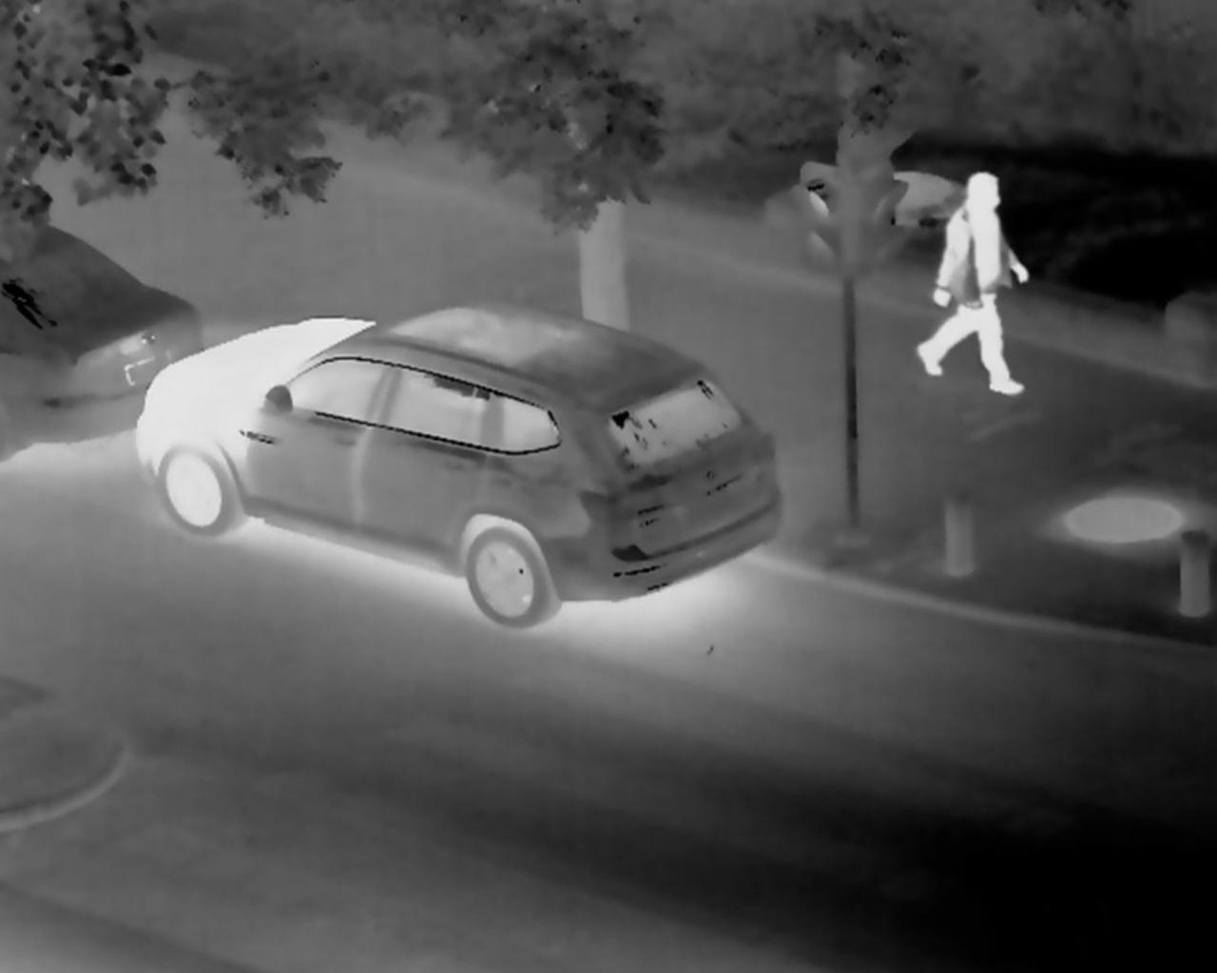person: (913, 173, 1033, 402)
